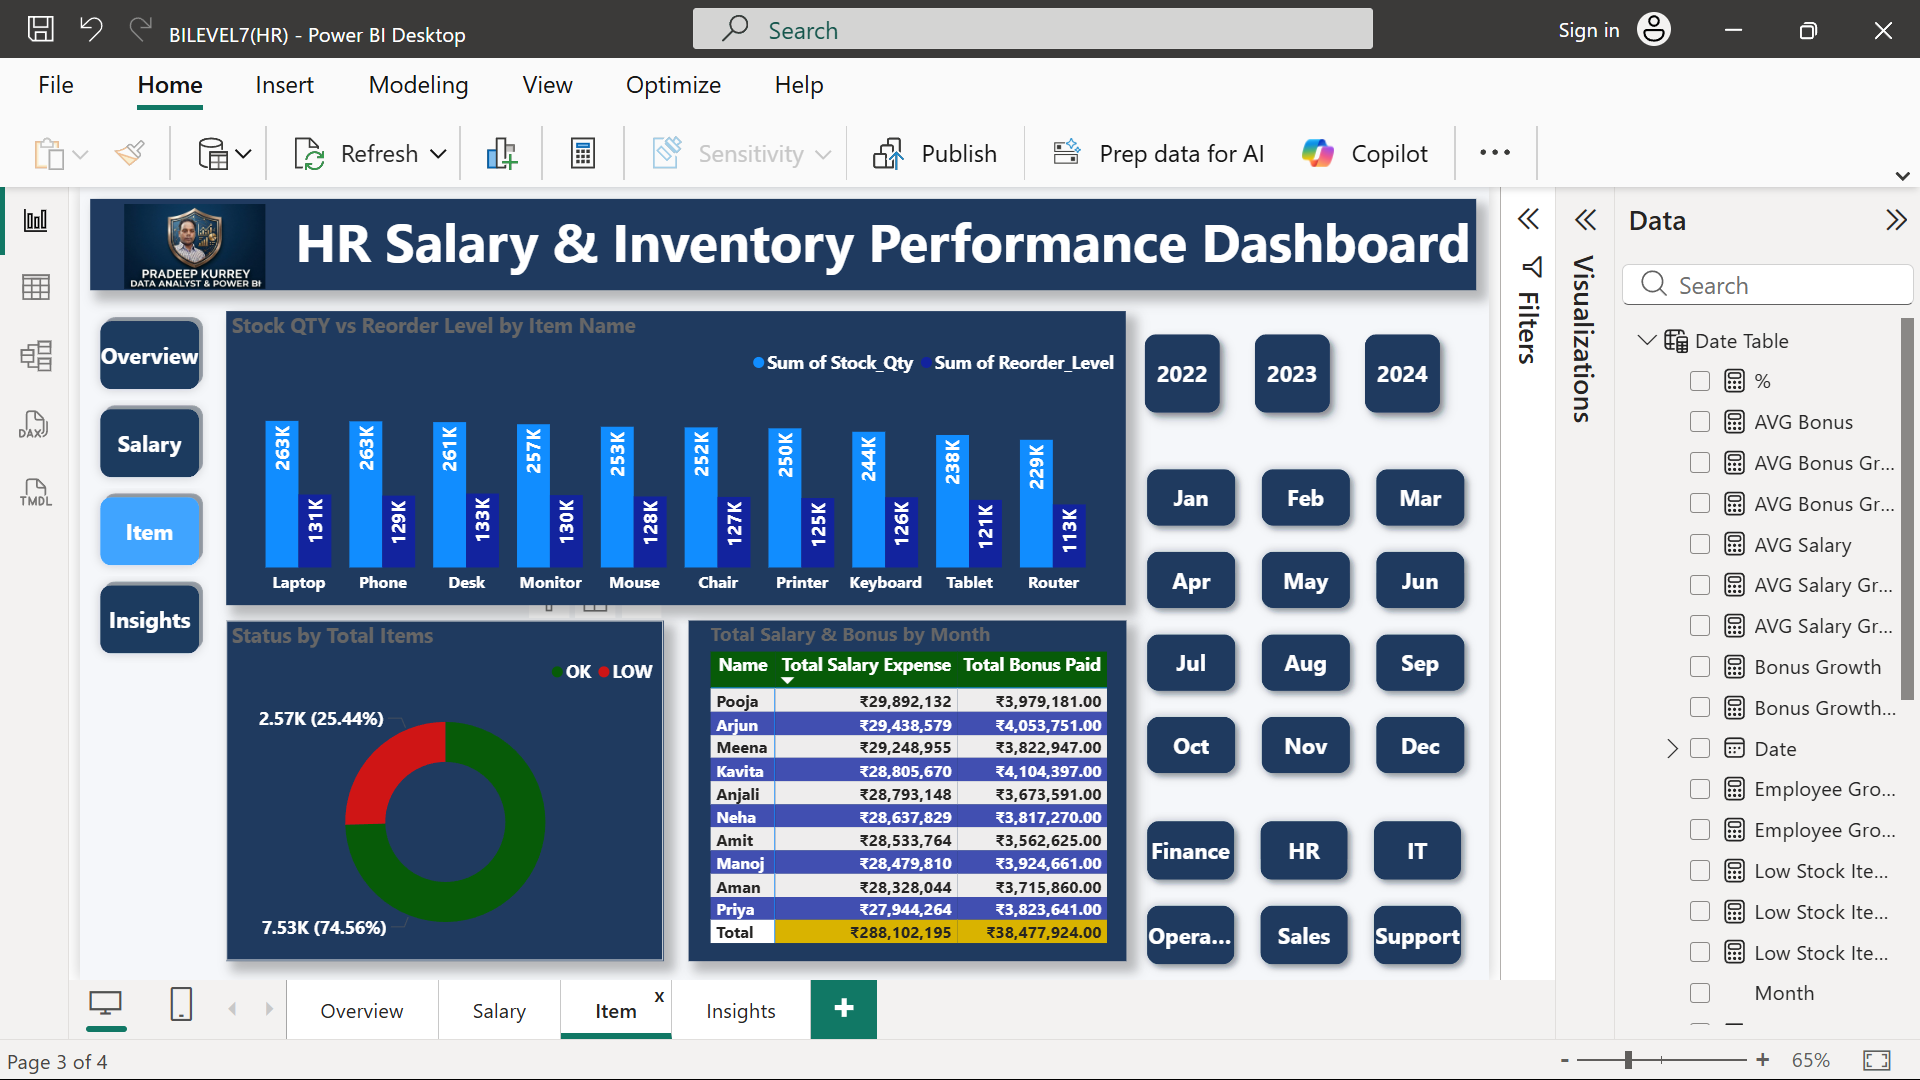

Layout of this report page (visuals, bound fields, positions):
{"tool":"powerbi","page":{"name":"Item","canvas":[1280,720],"ordinal":2},"visuals":[{"type":"textbox","box":[9.2,11,1258.6,82.8],"z":0},{"type":"pageNavigator","box":[9.2,112.2,108.6,322],"z":1000},{"type":"advancedSlicerVisual","fields":{"Values":["Date Table.Year"]},"box":[951.3,112.2,301.8,108.6],"z":2000},{"type":"advancedSlicerVisual","fields":{"Values":["Date Table.Month"]},"box":[956.8,239.2,312.8,307.3],"z":3000},{"type":"advancedSlicerVisual","fields":{"Values":["Table1.Dept"]},"box":[956.8,559.4,311,160.1],"z":4000},{"type":"donutChart","title":"Status by Total Items","fields":{"Category":["Table1.Status"],"Y":["Date Table.Total Items"]},"box":[132.5,393.8,397.4,309.1],"z":5000},{"type":"image","box":[3.7,14.7,202.4,77.3],"z":6000},{"type":"pivotTable","title":"Total Salary & Bonus by Month","fields":{"Rows":["Table1.Name"],"Values":["Date Table.Total Salary Expense","Date Table.Total Bonus Paid"]},"box":[552,393.8,397.4,309.1],"z":7000},{"type":"lineClusteredColumnComboChart","title":"Stock QTY vs Reorder Level by Item Name","fields":{"Category":["Table1.Item"],"Y":["Sum(Table1.Stock_Qty)","Sum(Table1.Reorder_Level)"]},"box":[132.5,112.2,817,266.8],"z":8000}]}

Visuals, with their boxes on the page's 1280x720 design canvas (x1, y1, x2, y2). These are canvas units, not pixel positions in the 1920x1080 screenshot, which may show the page scaled, cropped or inside an application window:
textbox: {"left": 9, "top": 11, "right": 1268, "bottom": 94}
pageNavigator: {"left": 9, "top": 112, "right": 118, "bottom": 434}
advancedSlicerVisual - Date Table.Year: {"left": 951, "top": 112, "right": 1253, "bottom": 221}
advancedSlicerVisual - Date Table.Month: {"left": 957, "top": 239, "right": 1270, "bottom": 546}
advancedSlicerVisual - Table1.Dept: {"left": 957, "top": 559, "right": 1268, "bottom": 720}
"Status by Total Items" donutChart: {"left": 132, "top": 394, "right": 530, "bottom": 703}
image: {"left": 4, "top": 15, "right": 206, "bottom": 92}
"Total Salary & Bonus by Month" pivotTable: {"left": 552, "top": 394, "right": 949, "bottom": 703}
"Stock QTY vs Reorder Level by Item Name" lineClusteredColumnComboChart: {"left": 132, "top": 112, "right": 950, "bottom": 379}
